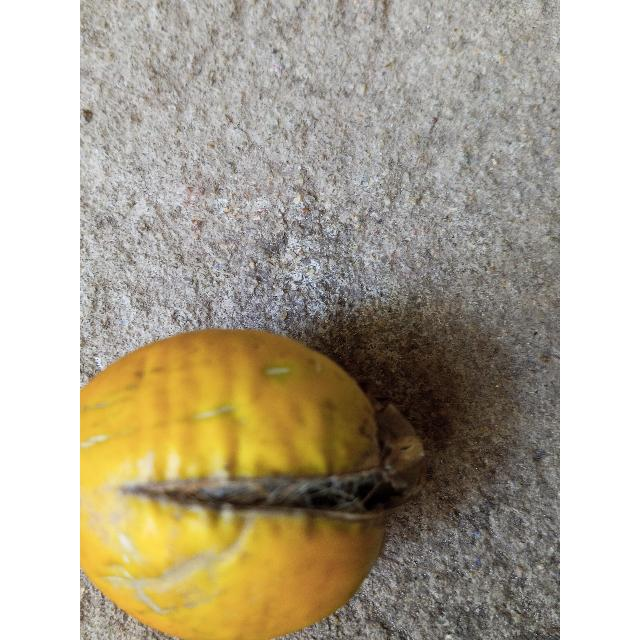damaged: (80, 329, 425, 640)
